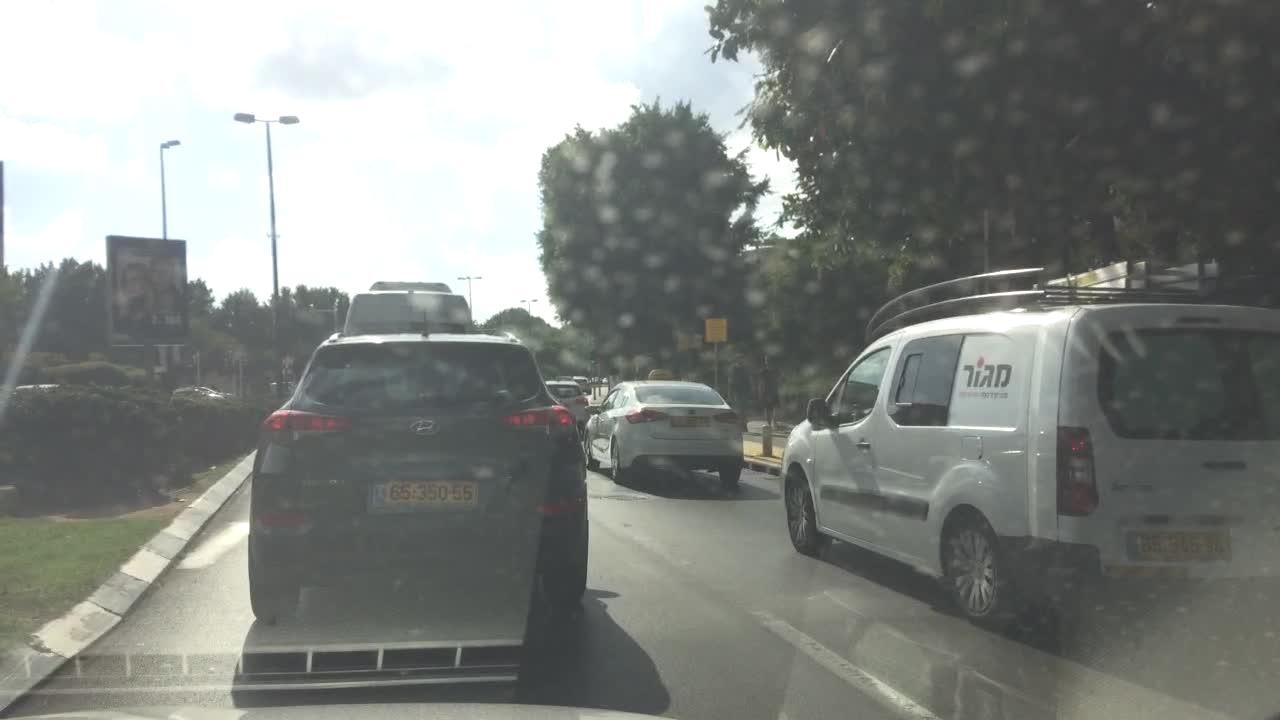Hyundai: (407, 412, 444, 441)
